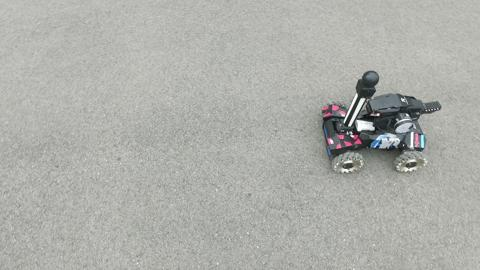chariot: (320, 69, 442, 174)
